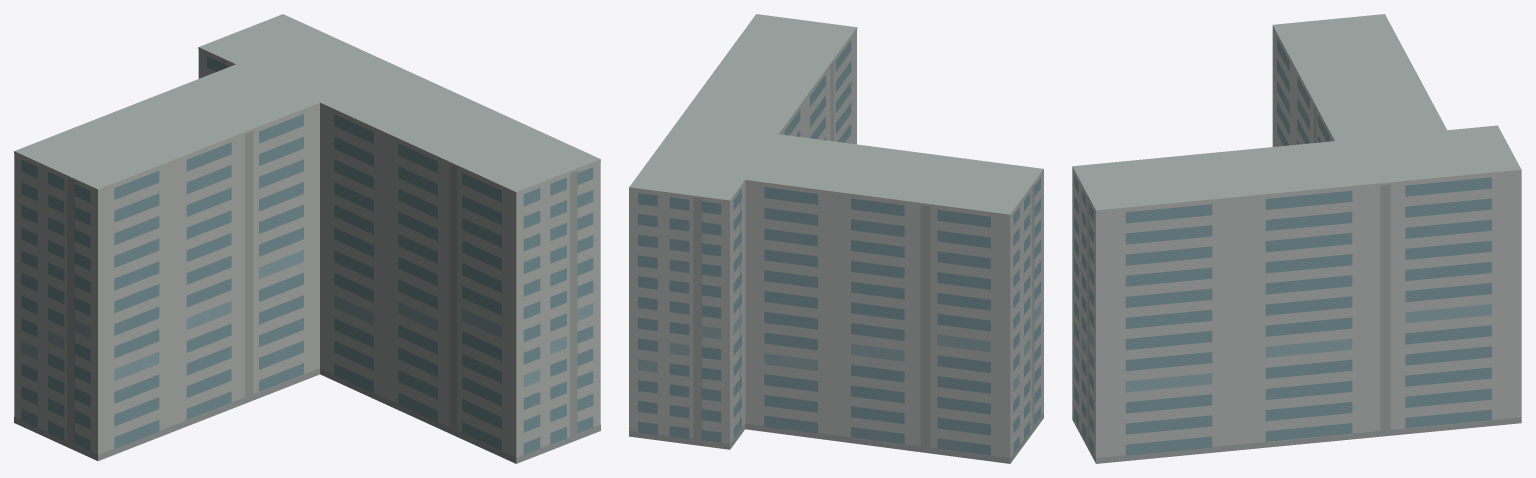
The model's file is residential-db02b89a-7b6d-4d86-b8e8-ff9d5b2a663a.glb.
3 views of the same model, side by side, from view 1: azimuth 30°, elevation 25°; view 2: azimuth 150°, elevation 25°; view 3: azimuth 270°, elevation 25° (orthographic). The views are drawn at different scales.
Visible parts, largest first — view 1: residential-db02b89a-7b6d-4d86-b8e8-ff9d5b2a663a.tmp; view 2: residential-db02b89a-7b6d-4d86-b8e8-ff9d5b2a663a.tmp; view 3: residential-db02b89a-7b6d-4d86-b8e8-ff9d5b2a663a.tmp.
Boxes of the visible parts, <box> form: residential-db02b89a-7b6d-4d86-b8e8-ff9d5b2a663a.tmp: <box>14,14,600,463</box>; residential-db02b89a-7b6d-4d86-b8e8-ff9d5b2a663a.tmp: <box>629,14,1043,463</box>; residential-db02b89a-7b6d-4d86-b8e8-ff9d5b2a663a.tmp: <box>1072,14,1521,463</box>.
Size of the model in its own units: 53.22 by 32 by 51.42.
